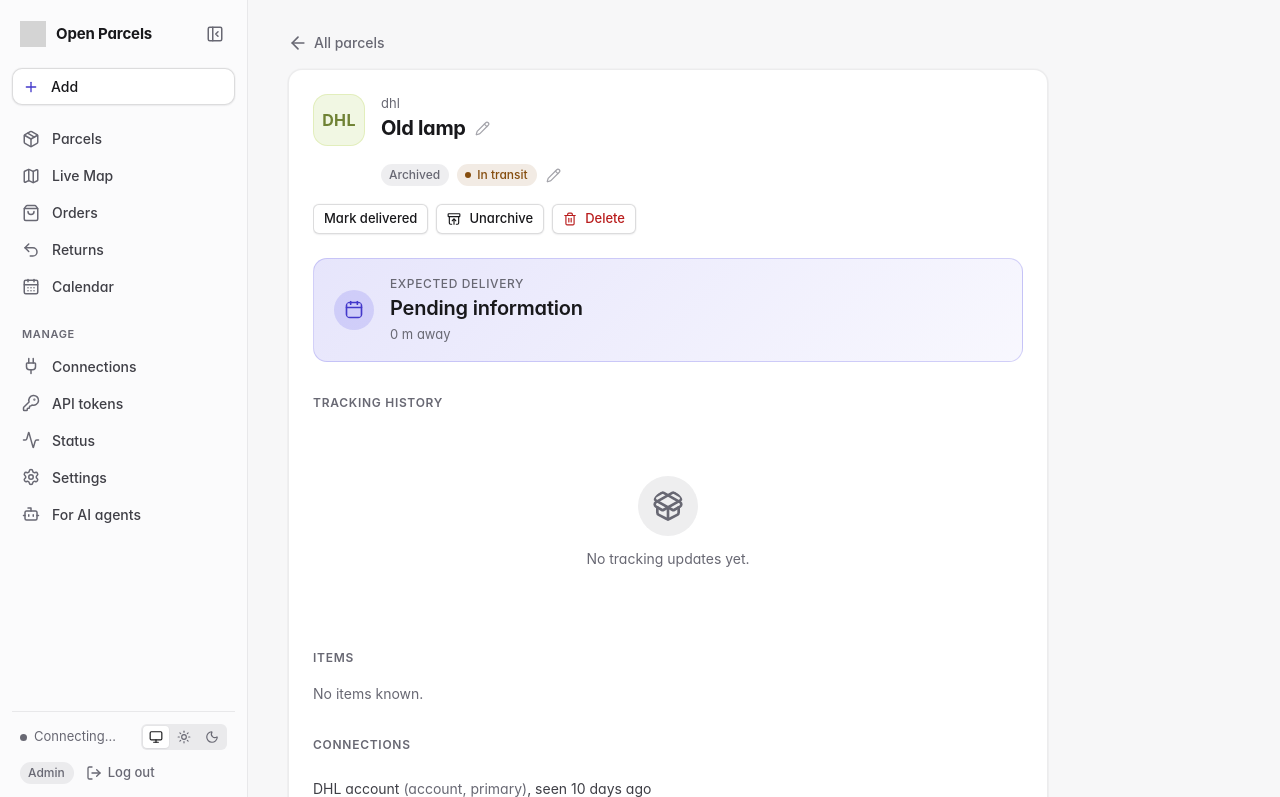
parcel detail › shows an archived parcel as archived, offers Unarchive and names its connections
The width and height of the screenshot is (1280, 797).
Expected: the heading "Old lamp" is shown, top-left (381, 117), bottom-right (466, 140)
Expected: the text "Archived" is shown, top-left (381, 164), bottom-right (449, 186)
Click the button "Unarchive".
click(490, 219)  # box top-left (436, 204), bottom-right (544, 234)
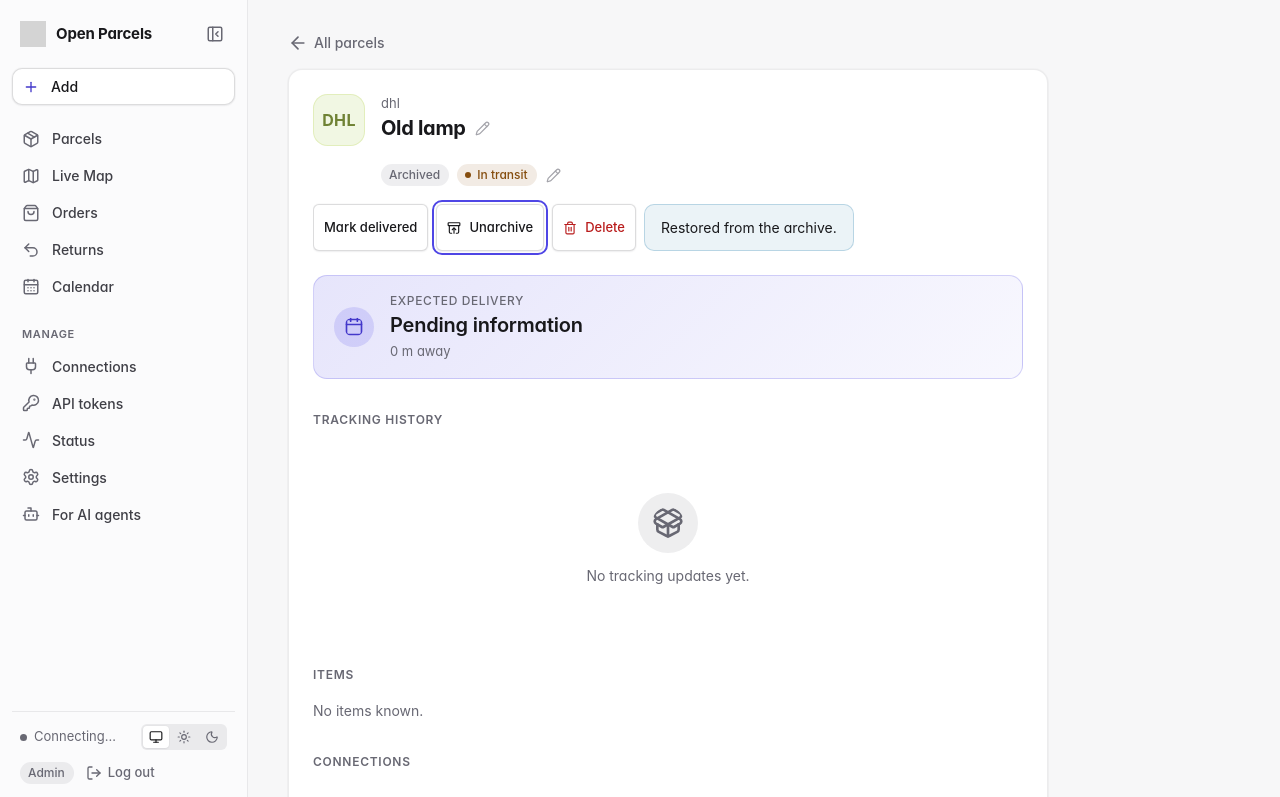
Now the text "Restored from the archive." is shown, box top-left (644, 204), bottom-right (854, 251)
